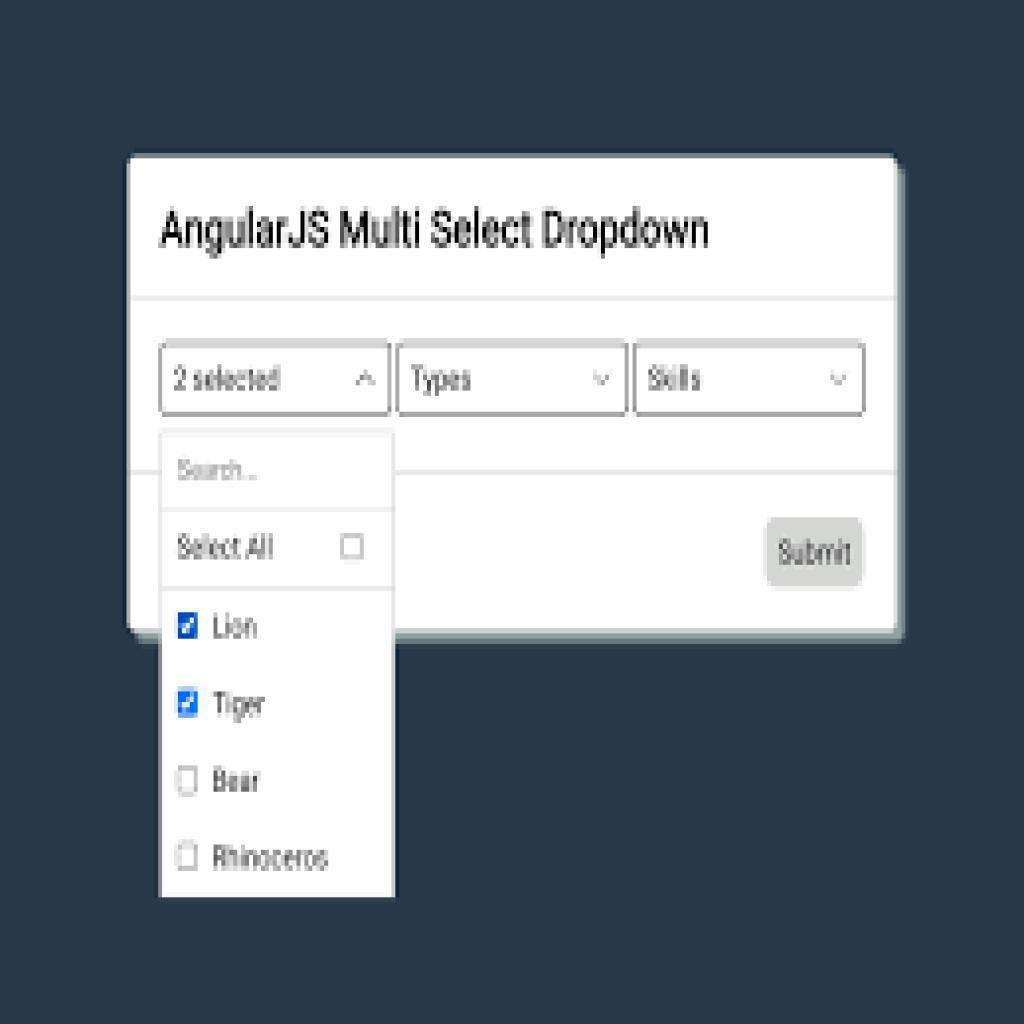button: (764, 515, 869, 589)
checkbox: (176, 767, 201, 797), (177, 687, 200, 718), (177, 840, 199, 872), (178, 613, 199, 639), (343, 535, 363, 560)
dropdown: (396, 341, 632, 419), (634, 348, 867, 421), (157, 346, 393, 417)
input: (162, 435, 386, 507)
